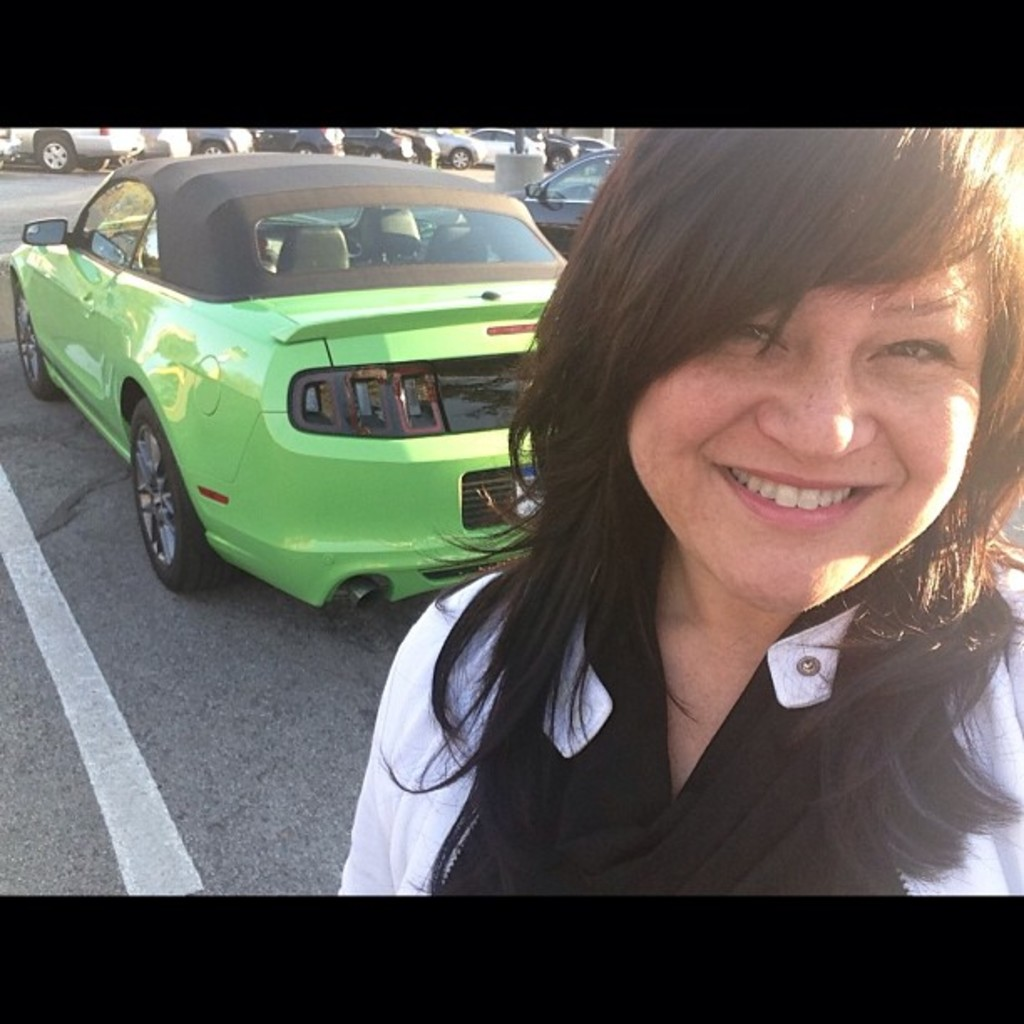Car: (0, 128, 632, 609)
